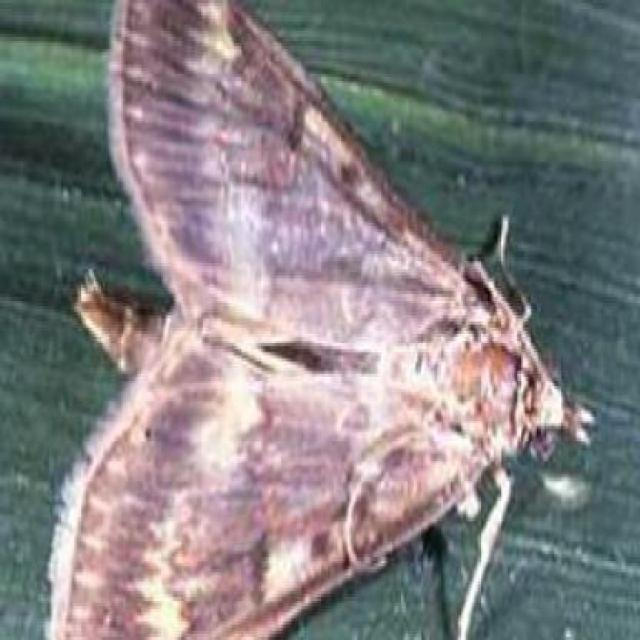stem-borer: (45, 0, 598, 640)
